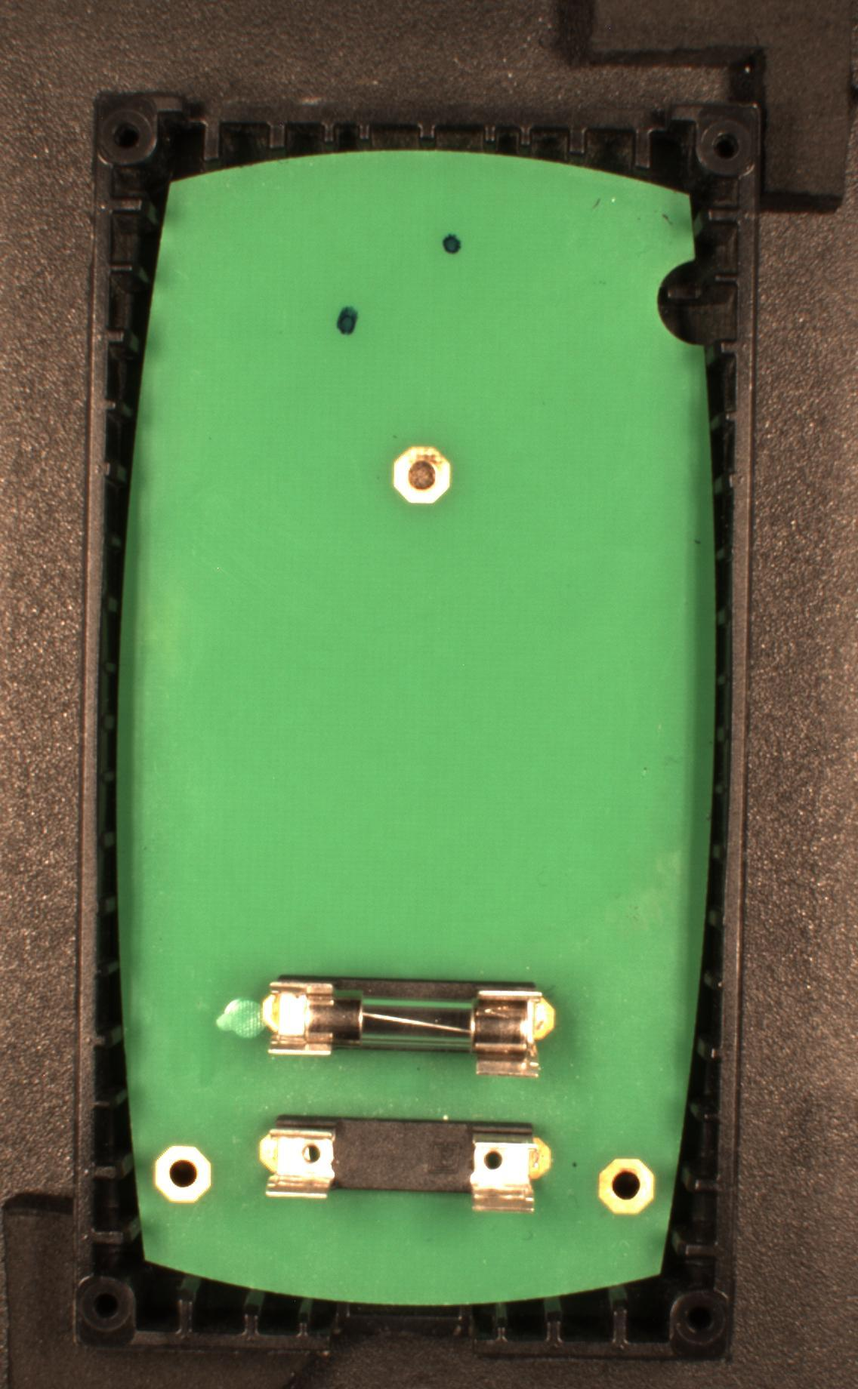Nepostojanje osiguraca: (258, 1111, 554, 1215)
Tockasto Ostecenje: (336, 304, 359, 336), (441, 232, 463, 254)
